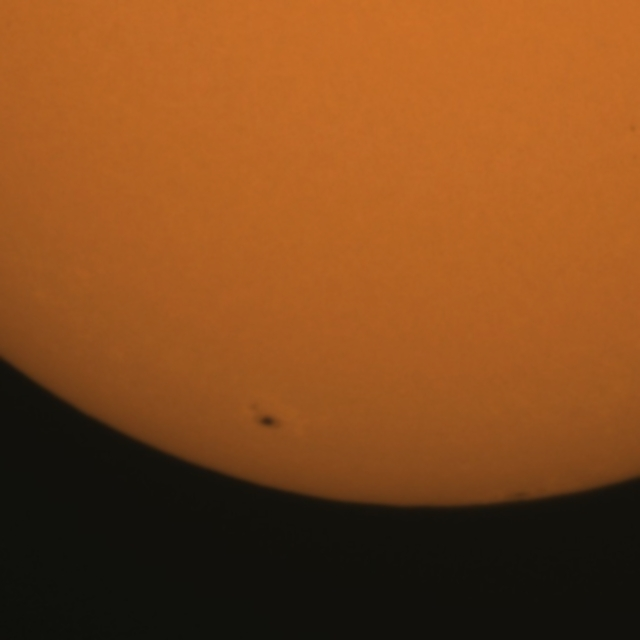sunspot: (252, 408, 284, 432), (627, 122, 640, 136)
